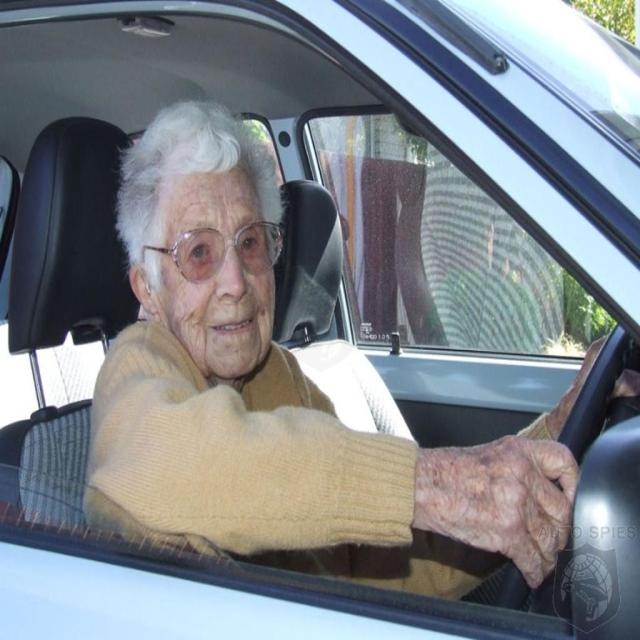Face: (147, 153, 298, 386)
